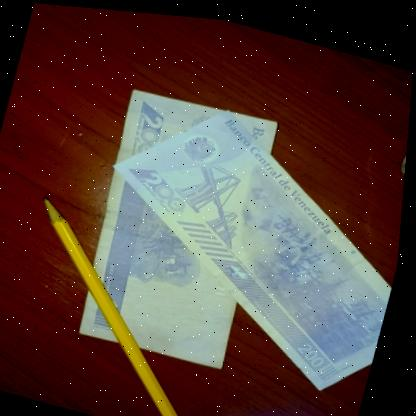ten-back-vef: (73, 77, 289, 368)
two_hundred-back-vef: (72, 77, 412, 395)
